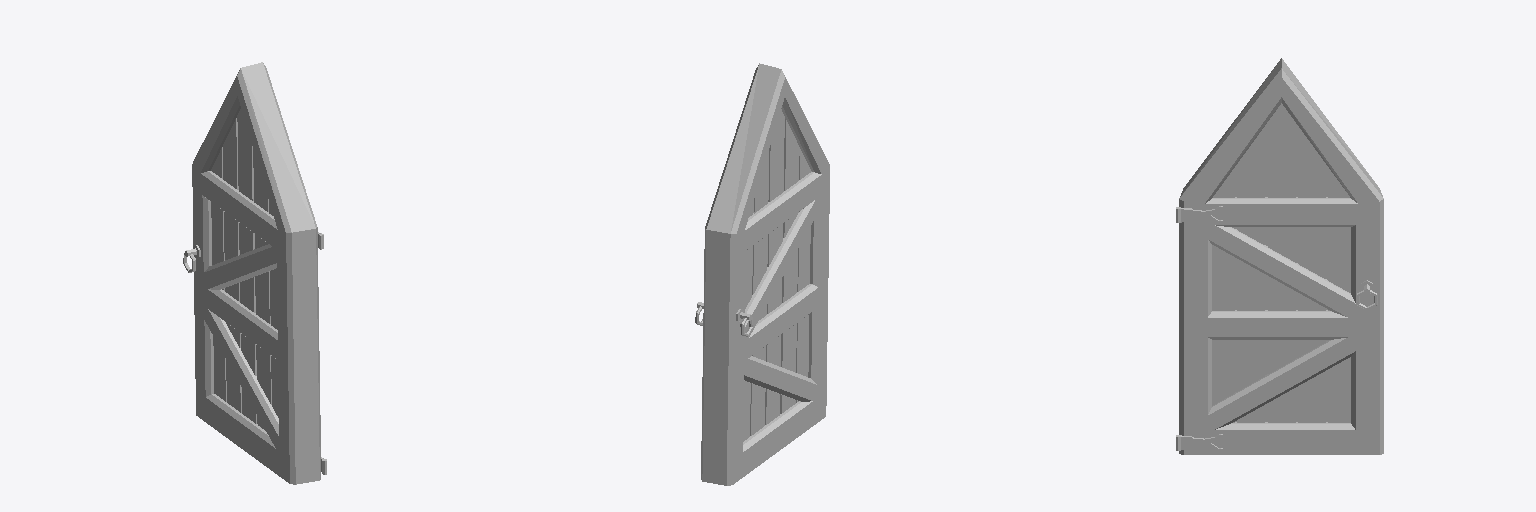
The model's file is lighthouse_door_lp.obj.
The picture shows the model from 3 angles: view 1: azimuth 30°, elevation 25°; view 2: azimuth 150°, elevation 25°; view 3: azimuth 270°, elevation 25°; orthographic projection.
Parts seen in each view (by area): view 1: lighthouse_door_lp; view 2: lighthouse_door_lp; view 3: lighthouse_door_lp.
Boxes of the visible parts, x1=… form: lighthouse_door_lp: x1=183, y1=62, x2=326, y2=484; lighthouse_door_lp: x1=695, y1=63, x2=829, y2=485; lighthouse_door_lp: x1=1176, y1=58, x2=1383, y2=454.
Bounding box in the file's own units: 0.5073 × 3.52 × 1.73.